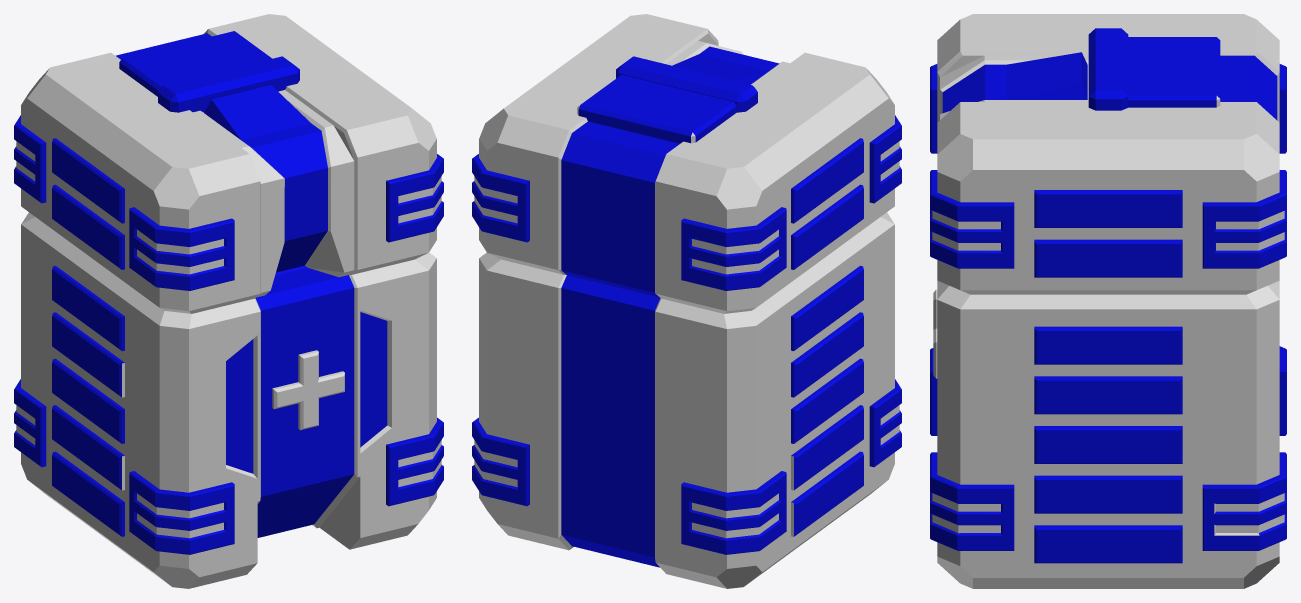
The model's file is MedKit.fbx.
The picture shows the model from 3 angles, left to right: view 1: azimuth 30°, elevation 25°; view 2: azimuth 150°, elevation 25°; view 3: azimuth 270°, elevation 25°; orthographic projection. The views are drawn at different scales.
Parts seen in each view (by area): view 1: MedKit; view 2: MedKit; view 3: MedKit.
Boxes of the visible parts, left/top/right/bottom form: MedKit: left=14, top=14, right=443, bottom=588; MedKit: left=472, top=14, right=901, bottom=588; MedKit: left=930, top=14, right=1286, bottom=588.
Size of the model in its own units: 35.27 by 50.95 by 35.27.
